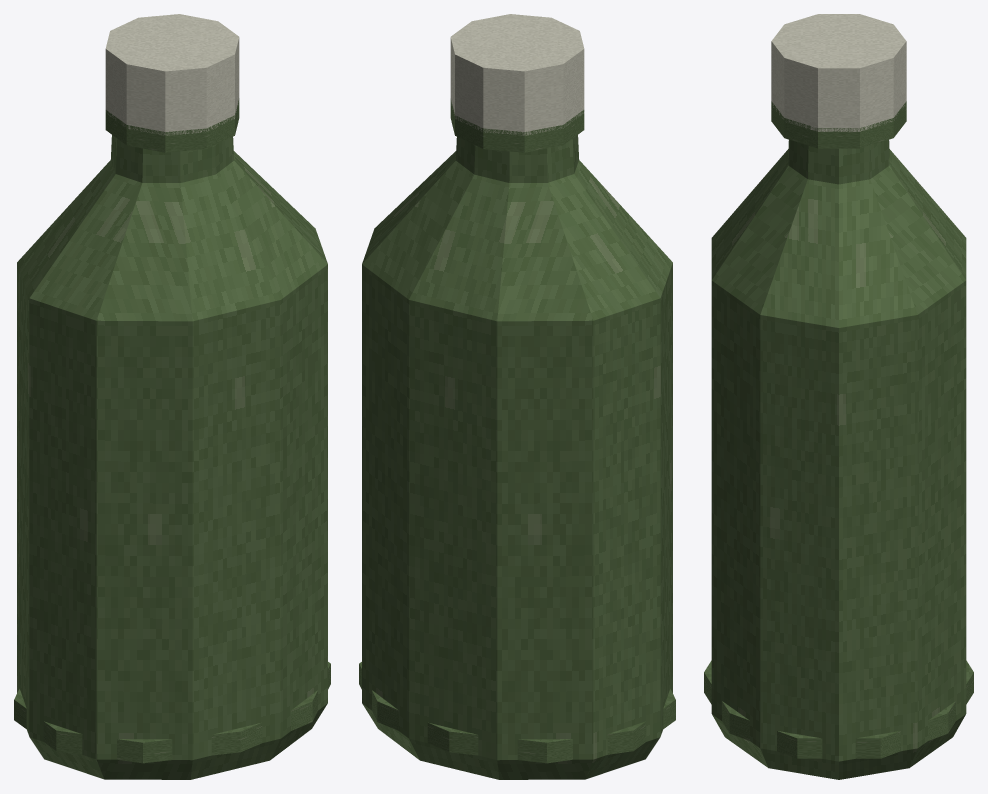
Rendered from detergent_bottle.glb.
The picture shows the model from 3 angles, left to right: view 1: azimuth 30°, elevation 25°; view 2: azimuth 150°, elevation 25°; view 3: azimuth 270°, elevation 25°; orthographic projection.
Parts seen in each view (by area): view 1: detergent_bottle; view 2: detergent_bottle; view 3: detergent_bottle.
Part boxes in pixels (box(x1,y1,x2,y2)): detergent_bottle: box(14, 14, 330, 779); detergent_bottle: box(359, 14, 675, 779); detergent_bottle: box(704, 14, 973, 779).
Bounding box in the file's own units: 0.116 × 0.2655 × 0.0959.
Materials: 2 (2 with a texture image).
